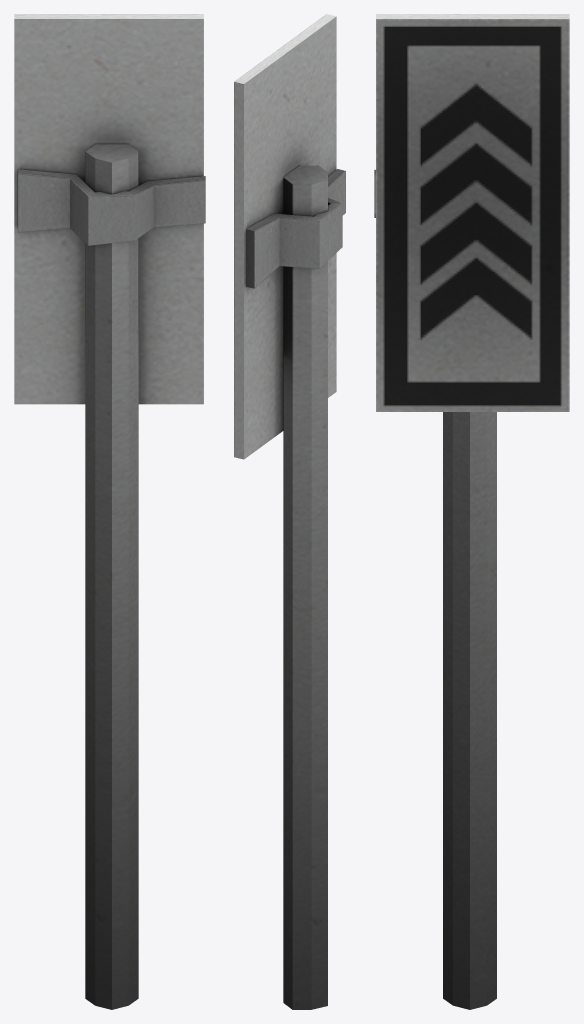
File: Prop_SignRectangle.FBX
3 renders of one model, left to right at view 1: azimuth 90°, elevation 25°; view 2: azimuth 150°, elevation 25°; view 3: azimuth 270°, elevation 25°, orthographic. The views are drawn at different scales.
Visible parts, largest first — view 1: Prop_SignRectangle; view 2: Prop_SignRectangle; view 3: Prop_SignRectangle.
Part boxes in pixels (bbox=[...]): Prop_SignRectangle: bbox=[14, 14, 205, 1009]; Prop_SignRectangle: bbox=[234, 14, 345, 1009]; Prop_SignRectangle: bbox=[374, 14, 569, 1009].
Bounding box in the file's own units: 9.79 × 179 × 31.97.
